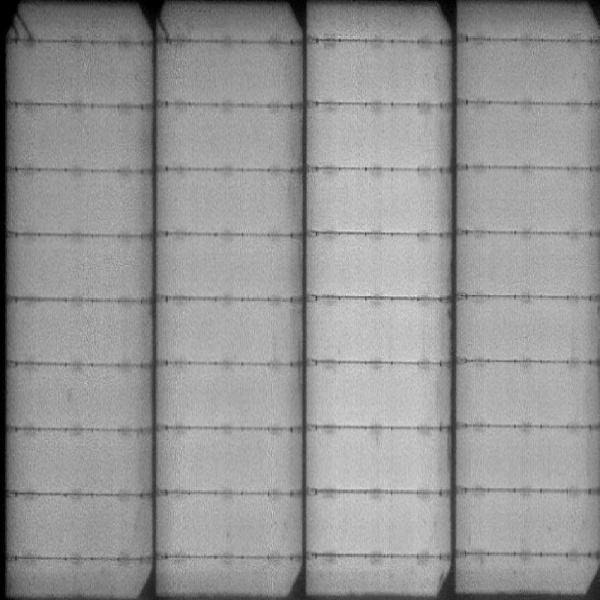broken: (1, 3, 34, 47), (155, 1, 172, 39)
